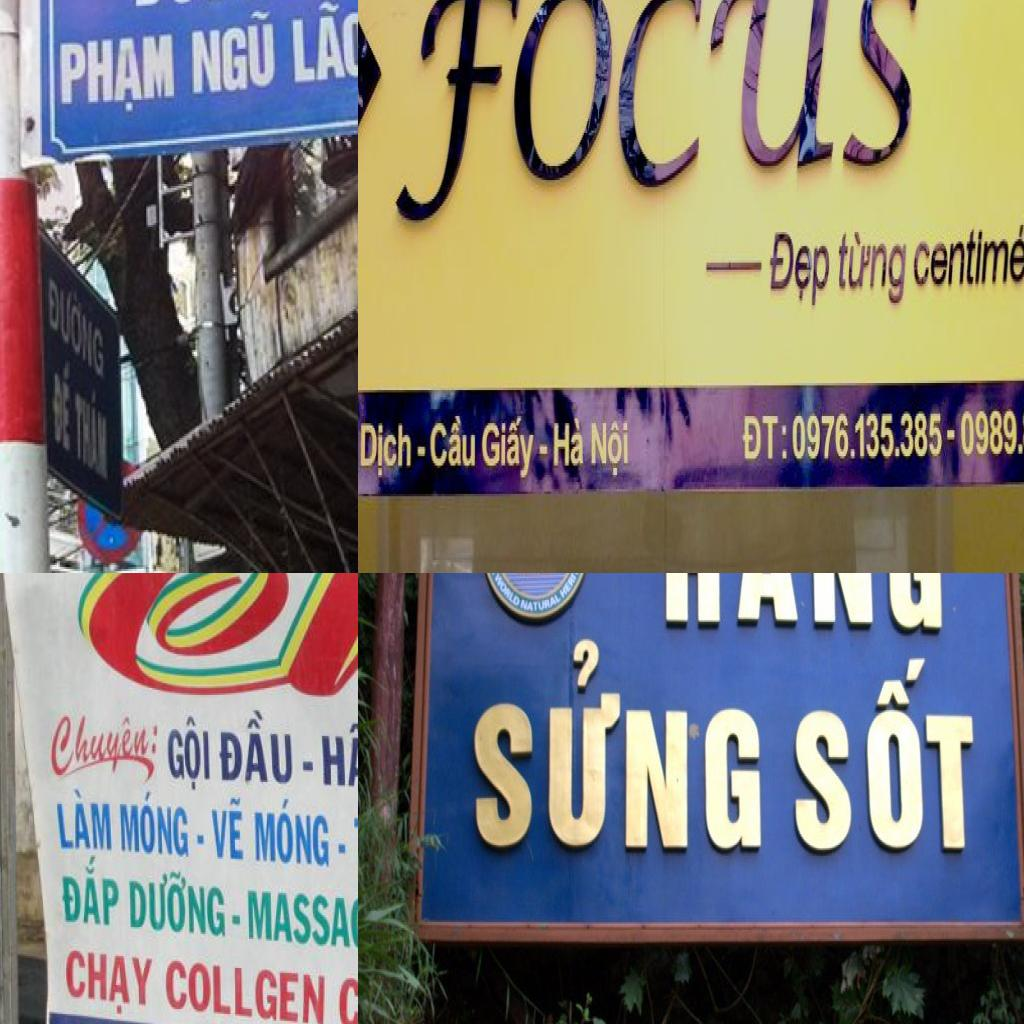text: (382, 0, 928, 239), (470, 635, 762, 851), (74, 573, 358, 706), (665, 573, 943, 631), (160, 956, 328, 1024), (58, 32, 178, 118), (914, 213, 1024, 305), (793, 407, 945, 463), (189, 6, 278, 98), (125, 859, 225, 939), (245, 882, 358, 951), (47, 258, 106, 384), (44, 716, 161, 778), (62, 947, 157, 1021), (836, 223, 910, 312), (765, 223, 833, 319), (218, 706, 296, 786), (288, 0, 358, 85), (252, 792, 331, 867), (116, 787, 191, 861), (56, 852, 120, 932), (52, 784, 116, 852), (72, 372, 110, 485), (960, 401, 1024, 465), (482, 414, 538, 482), (166, 716, 213, 792), (315, 710, 358, 790), (359, 418, 412, 480), (739, 409, 791, 468), (589, 411, 630, 480), (430, 414, 479, 470), (210, 794, 246, 864), (551, 409, 585, 475), (50, 366, 72, 456), (491, 573, 522, 611), (518, 592, 567, 614), (558, 573, 590, 606), (538, 437, 550, 461), (945, 423, 956, 447), (416, 442, 428, 461)
